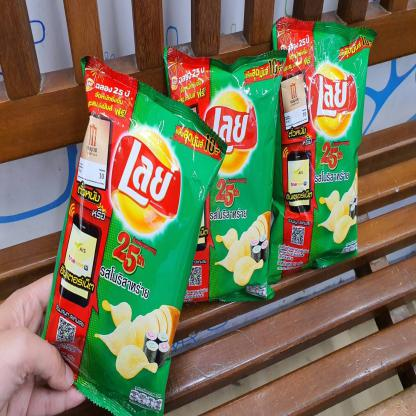potatochip: (35, 53, 228, 415), (158, 46, 286, 306), (270, 12, 374, 283)
